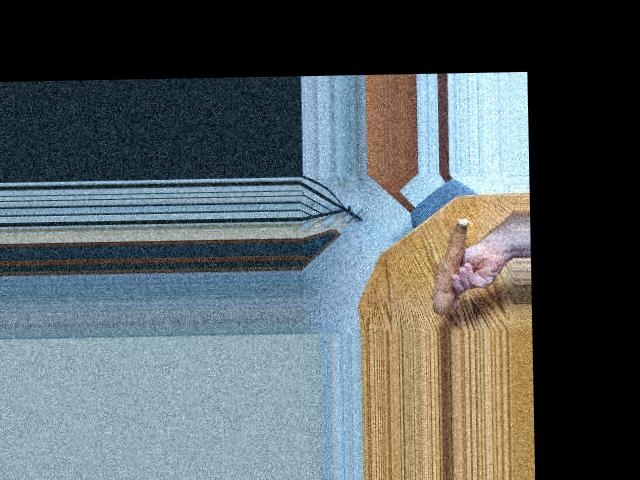sweet_potato: (427, 216, 471, 313)
